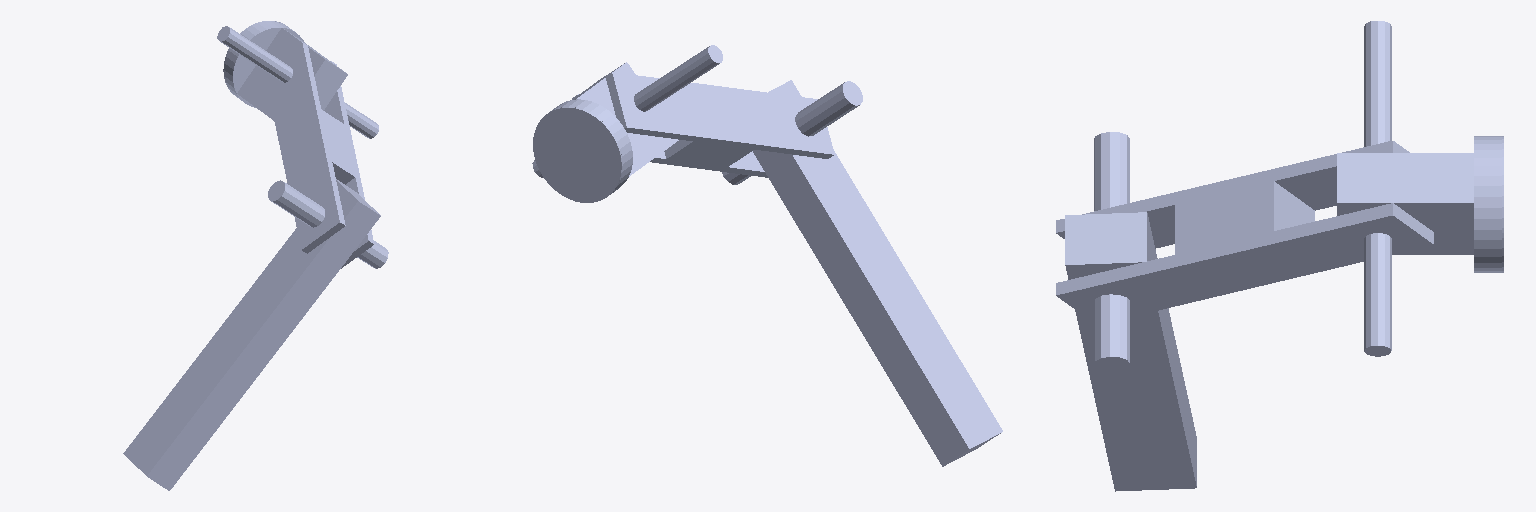
The robot description file, URDF, robot "NoActuatorArm.SLDASM":
<?xml version="1.0" encoding="utf-8"?>
<!-- This URDF was automatically created by SolidWorks to URDF Exporter! Originally created by [author] ([email redacted]) 
     Commit Version: 1.5.1-0-g916b5db  Build Version: 1.5.7152.31018
     For more information, please see http://wiki.ros.org/sw_urdf_exporter -->
<robot
  name="NoActuatorArm.SLDASM">
  <link
    name="base_link">
    <inertial>
      <origin
        xyz="9.020307973451E-19 -0.00127 7.77625034677209E-20"
        rpy="0 0 0" />
      <mass
        value="0.0321759249226911" />
      <inertia
        ixx="3.24526421671496E-05"
        ixy="-7.57634435785802E-39"
        ixz="4.63901971968963E-55"
        iyy="6.48706866347606E-05"
        iyz="-1.98496716167664E-21"
        izz="3.24526421671496E-05" />
    </inertial>
    <visual>
      <origin
        xyz="0 0 0"
        rpy="0 0 0" />
      <geometry>
        <mesh
          filename="package://NoActuatorArm.SLDASM/meshes/base_link.STL" />
      </geometry>
      <material
        name="">
        <color
          rgba="0.792156862745098 0.819607843137255 0.933333333333333 1" />
      </material>
    </visual>
    <collision>
      <origin
        xyz="0 0 0"
        rpy="0 0 0" />
      <geometry>
        <mesh
          filename="package://NoActuatorArm.SLDASM/meshes/base_link.STL" />
      </geometry>
    </collision>
  </link>
  <link
    name="shoulder">
    <inertial>
      <origin
        xyz="0.000781189459124646 -0.00178775778492078 0.0742100176870791"
        rpy="0 0 0" />
      <mass
        value="1.21428293086761" />
      <inertia
        ixx="0.00265515731800666"
        ixy="0.000415266502989419"
        ixz="-2.02722069172952E-05"
        iyy="0.00277012426763836"
        iyz="4.63930936478976E-05"
        izz="0.00320688952214508" />
    </inertial>
    <visual>
      <origin
        xyz="0 0 0"
        rpy="0 0 0" />
      <geometry>
        <mesh
          filename="package://NoActuatorArm.SLDASM/meshes/shoulder.STL" />
      </geometry>
      <material
        name="">
        <color
          rgba="0.792156862745098 0.819607843137255 0.933333333333333 1" />
      </material>
    </visual>
    <collision>
      <origin
        xyz="0 0 0"
        rpy="0 0 0" />
      <geometry>
        <mesh
          filename="package://NoActuatorArm.SLDASM/meshes/shoulder.STL" />
      </geometry>
    </collision>
  </link>
  <joint
    name="base_to_shoulder"
    type="continuous">
    <origin
      xyz="0 0 0"
      rpy="-1.5707963267949 -0.00708905725365007 3.14159265358979" />
    <parent
      link="base_link" />
    <child
      link="shoulder" />
    <axis
      xyz="0 0 1" />
  </joint>
  <link
    name="humerus">
    <inertial>
      <origin
        xyz="0.0737931848896958 -0.0336144916819774 -0.114766986587721"
        rpy="0 0 0" />
      <mass
        value="1.08134963942505" />
      <inertia
        ixx="0.0070696998344954"
        ixy="0.00114748677962122"
        ixz="-0.00208043167359467"
        iyy="0.00642520574081207"
        iyz="0.00258643254437875"
        izz="0.00390169605736594" />
    </inertial>
    <visual>
      <origin
        xyz="0 0 0"
        rpy="0 0 0" />
      <geometry>
        <mesh
          filename="package://NoActuatorArm.SLDASM/meshes/humerus.STL" />
      </geometry>
      <material
        name="">
        <color
          rgba="0.792156862745098 0.819607843137255 0.933333333333333 1" />
      </material>
    </visual>
    <collision>
      <origin
        xyz="0 0 0"
        rpy="0 0 0" />
      <geometry>
        <mesh
          filename="package://NoActuatorArm.SLDASM/meshes/humerus.STL" />
      </geometry>
    </collision>
  </link>
  <joint
    name="shoulder_to_humerus"
    type="continuous">
    <origin
      xyz="-0.014446186337702 -0.0253999999999998 0.345909915448798"
      rpy="-0.195580902426249 0 1.5707963267949" />
    <parent
      link="shoulder" />
    <child
      link="humerus" />
    <axis
      xyz="0.644862598348269 0.749727127370618 0.148531019440791" />
  </joint>
  <link
    name="forearm">
    <inertial>
      <origin
        xyz="0.26494164825564 -0.214144920360418 -0.0418605235637473"
        rpy="0 0 0" />
      <mass
        value="2.13019814818598" />
      <inertia
        ixx="0.0215213128230697"
        ixy="0.0217042659129813"
        ixz="0.007645819849643"
        iyy="0.0320225068054651"
        iyz="-0.00609449904920948"
        izz="0.0473525491090959" />
    </inertial>
    <visual>
      <origin
        xyz="0 0 0"
        rpy="0 0 0" />
      <geometry>
        <mesh
          filename="package://NoActuatorArm.SLDASM/meshes/forearm.STL" />
      </geometry>
      <material
        name="">
        <color
          rgba="0.792156862745098 0.819607843137255 0.933333333333333 1" />
      </material>
    </visual>
    <collision>
      <origin
        xyz="0 0 0"
        rpy="0 0 0" />
      <geometry>
        <mesh
          filename="package://NoActuatorArm.SLDASM/meshes/forearm.STL" />
      </geometry>
    </collision>
  </link>
  <joint
    name="humerus_to_forearm"
    type="continuous">
    <origin
      xyz="0 0 0"
      rpy="0 0 0" />
    <parent
      link="humerus" />
    <child
      link="forearm" />
    <axis
      xyz="0.644862598348269 0.749727127370618 0.148531019440791" />
  </joint>
</robot>

--- What the picture shows (computed from the rendered views, not written in the file) ---
The picture shows the robot from 3 angles, left to right: view 1: azimuth 30°, elevation 25°; view 2: azimuth 150°, elevation 25°; view 3: azimuth 270°, elevation 25°; orthographic projection.
Robot: NoActuatorArm.SLDASM — 4 links, 3 joints (3 continuous); root link base_link; default pose: all joints at 0.
Links seen in each view (by area): view 1: forearm, humerus, shoulder; view 2: forearm, humerus, base_link, shoulder; view 3: humerus, forearm, shoulder.
Boxes of the visible links, x1,y1,x2,y2 form: forearm: (123,179,388,490); humerus: (264,42,373,268); shoulder: (217,21,378,138); forearm: (722,80,1002,466); humerus: (572,72,834,177); base_link: (533,107,622,202); shoulder: (532,45,722,192); humerus: (1056,141,1433,322); forearm: (1065,132,1196,491); shoulder: (1337,21,1501,356).
Size in the robot's own frame: 0.5291 by 0.4149 by 0.5925 metres.
4 mesh visuals loaded from 4 distinct referenced files (4 binary STL).